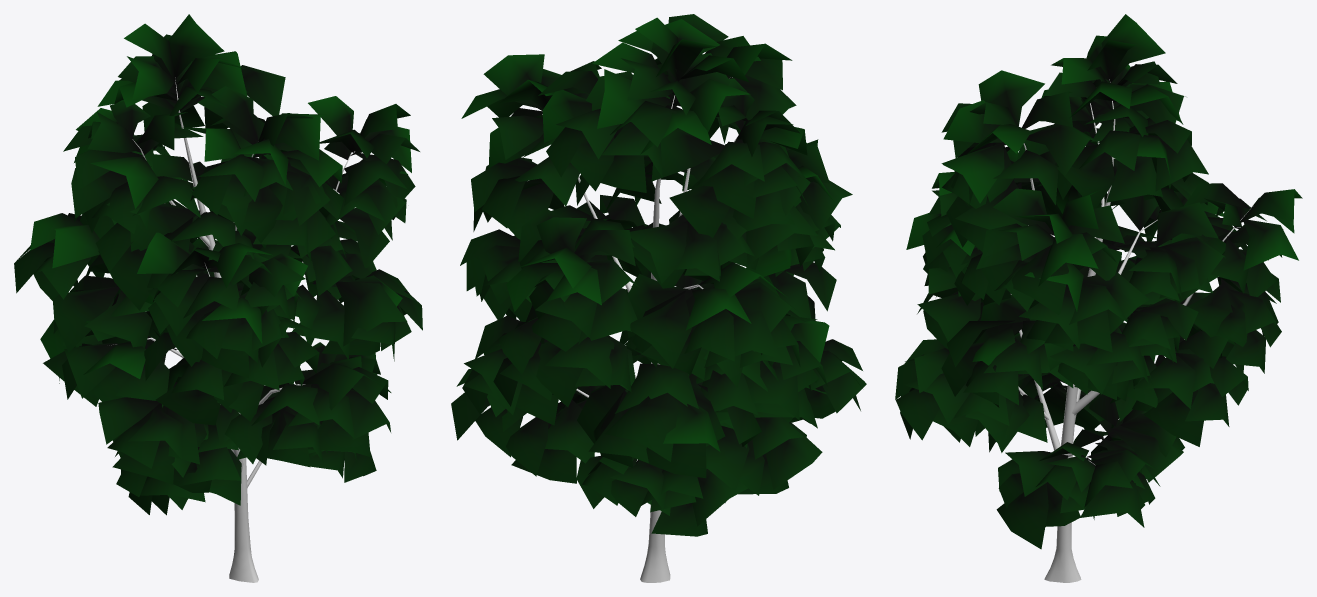
The model's file is CupuacuTree01_afsTREE_xlprl10_xlt_xef20_xmw03_xlb05_xlod00.fbx.
3 renders of one model, left to right at view 1: azimuth 30°, elevation 25°; view 2: azimuth 150°, elevation 25°; view 3: azimuth 270°, elevation 25°, orthographic. The views are drawn at different scales.
Parts seen in each view (by area): view 1: leaf01.229, leaf01.114, trunk_xw12_xt12, leaf01.089_xp08, leaf01.126, leaf01.109, leaf01.411, leaf01.110, leaf01.147, leaf01.369, leaf01.159, leaf01.150 (+94 smaller); view 2: leaf01.070, leaf01.423, leaf01.175, leaf01.394, leaf01.418, leaf01.123, leaf01.424, leaf01.353, leaf01.105, leaf01.042, leaf01.370, leaf01.120 (+112 smaller); view 3: trunk_xw12_xt12, leaf01.017, leaf01.204, leaf01.223, leaf01.096, leaf01.182, leaf01.081, leaf01.428, leaf01.382, leaf01.376, leaf01.085, leaf01.380 (+94 smaller).
Part boxes in pixels (x1,y1,x2,y2): leaf01.229: (335, 281, 407, 346); leaf01.114: (52, 286, 119, 352); trunk_xw12_xt12: (175, 77, 258, 582); leaf01.089_xp08: (168, 14, 224, 78); leaf01.126: (84, 290, 152, 347); leaf01.109: (98, 397, 159, 444); leaf01.411: (130, 203, 199, 251); leaf01.110: (64, 343, 117, 398); leaf01.147: (155, 387, 220, 425); leaf01.369: (52, 225, 99, 268); leaf01.159: (98, 245, 152, 310); leaf01.150: (197, 86, 258, 140); leaf01.070: (605, 392, 677, 461); leaf01.423: (630, 293, 692, 368); leaf01.175: (615, 363, 698, 413); leaf01.394: (651, 128, 725, 181); leaf01.418: (630, 221, 687, 283); leaf01.123: (704, 306, 781, 367); leaf01.424: (669, 185, 729, 237); leaf01.353: (545, 336, 614, 388); leaf01.105: (597, 69, 673, 128); leaf01.042: (765, 424, 822, 489); leaf01.370: (690, 138, 757, 218); leaf01.120: (744, 360, 799, 420); trunk_xw12_xt12: (1044, 79, 1115, 582); leaf01.017: (996, 483, 1048, 549); leaf01.204: (1003, 237, 1068, 314); leaf01.223: (941, 143, 1004, 203); leaf01.096: (978, 70, 1044, 126); leaf01.182: (1243, 219, 1298, 270); leaf01.081: (1144, 390, 1203, 446); leaf01.428: (1026, 123, 1099, 175); leaf01.382: (1156, 202, 1218, 247); leaf01.376: (1106, 156, 1162, 202); leaf01.085: (1132, 354, 1195, 409); leaf01.380: (1057, 152, 1114, 208).
Size of what is drawn, in the model's own units: 4.27 by 4.58 by 6.52.
